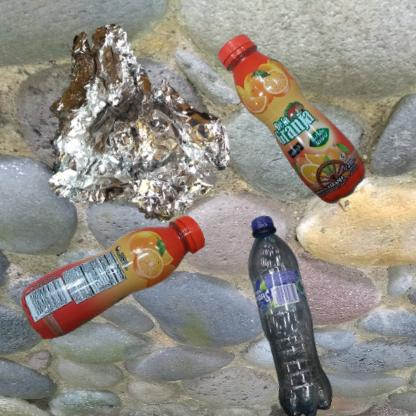aluminio: (10, 10, 284, 278)
botella: (213, 10, 414, 284), (213, 213, 380, 416), (10, 213, 236, 354)
